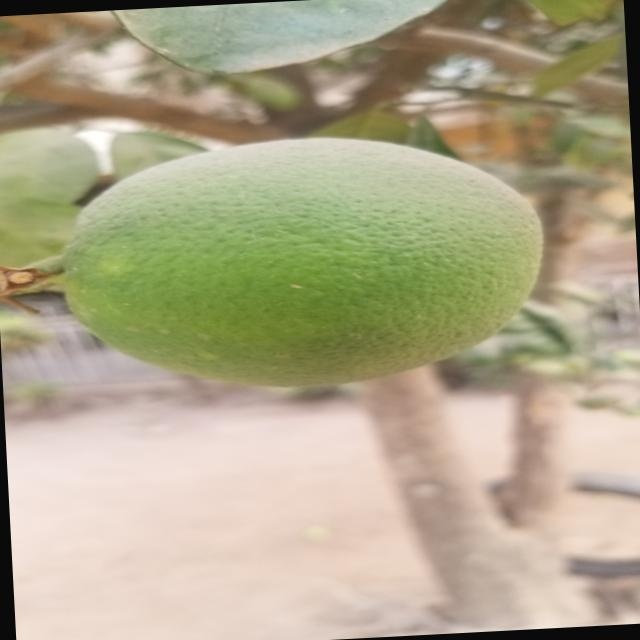agrume: (50, 127, 542, 396)
